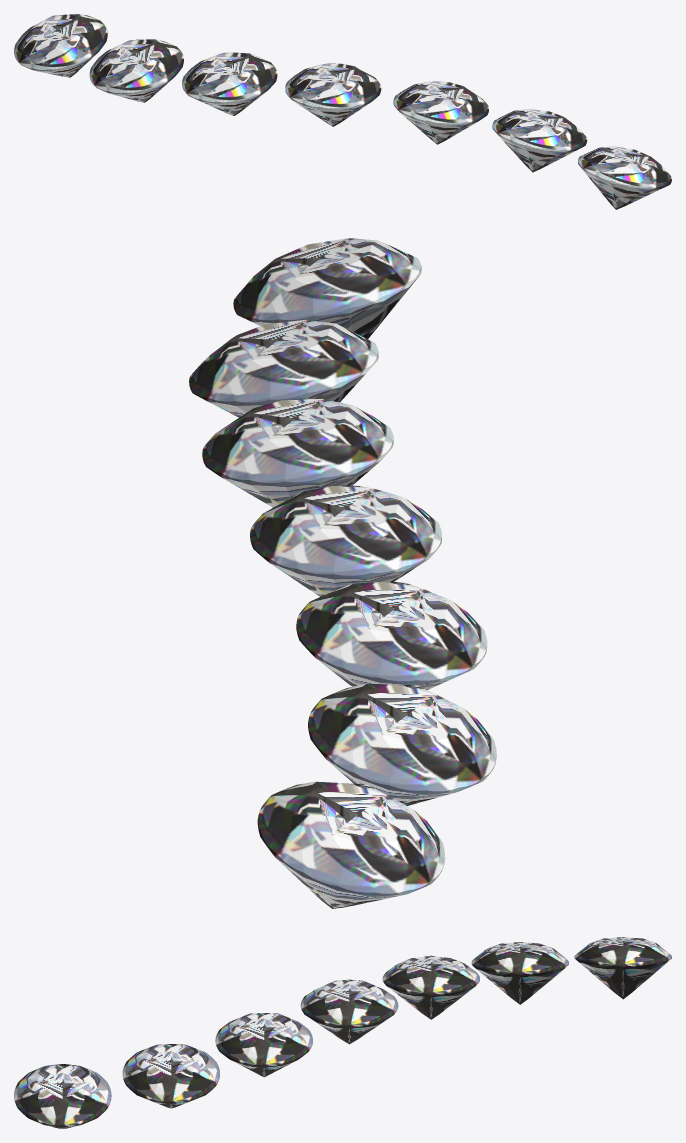
3 renders of one model, top to bottom at view 1: azimuth 30°, elevation 25°; view 2: azimuth 150°, elevation 25°; view 3: azimuth 270°, elevation 25°, orthographic. The views are drawn at different scales.
Parts seen in each view (by area): view 1: Object_6, Object_5, Object_7, Object_8, Object_4, Object_3, Object_1; view 2: Object_6, Object_5, Object_7, Object_8, Object_4, Object_1, Object_3; view 3: Object_1, Object_3, Object_4, Object_8, Object_7, Object_5, Object_6.
Part boxes in pixels (<box>): Object_6: <box>14,14,107,77</box>; Object_5: <box>89,39,183,102</box>; Object_7: <box>182,52,277,115</box>; Object_8: <box>285,63,381,126</box>; Object_4: <box>393,81,488,144</box>; Object_3: <box>492,109,587,172</box>; Object_1: <box>578,146,671,209</box>; Object_6: <box>257,781,445,908</box>; Object_5: <box>308,684,496,805</box>; Object_7: <box>296,582,487,689</box>; Object_8: <box>250,485,441,596</box>; Object_4: <box>202,398,393,507</box>; Object_1: <box>233,238,421,338</box>; Object_3: <box>189,319,378,417</box>; Object_1: <box>14,1064,111,1128</box>; Object_3: <box>122,1044,219,1108</box>; Object_4: <box>215,1013,312,1077</box>; Object_8: <box>300,979,398,1044</box>; Object_7: <box>382,955,479,1019</box>; Object_5: <box>471,942,568,1004</box>; Object_6: <box>574,937,671,999</box>.
Size of the model in its own units: 6.65 by 10.12 by 1.21.
1 material, 1 textured.
